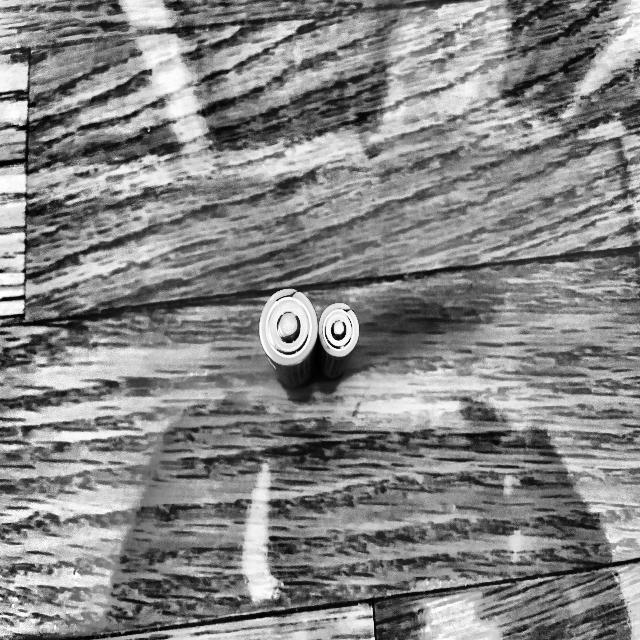drycell: (256, 282, 323, 392), (309, 295, 362, 386)
